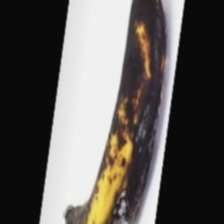banana: (58, 16, 206, 204)
